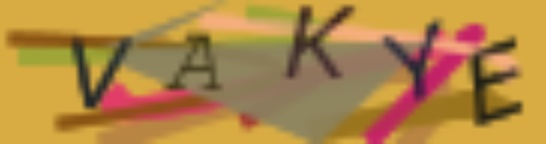A: (164, 32, 223, 95)
E: (469, 33, 528, 130)
K: (285, 1, 356, 82)
V: (66, 34, 137, 113)
Y: (379, 17, 444, 103)
